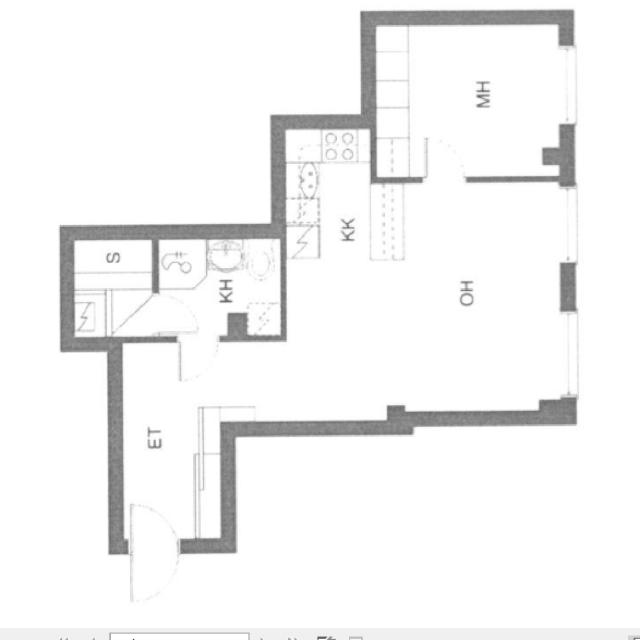door: (125, 499, 182, 606), (174, 335, 222, 386), (423, 138, 471, 187), (156, 290, 202, 338)
window: (549, 304, 584, 406), (551, 39, 584, 131), (552, 181, 585, 271)
zone: (280, 125, 576, 424), (376, 21, 566, 181), (116, 336, 222, 551), (157, 236, 282, 338), (67, 234, 157, 345)
